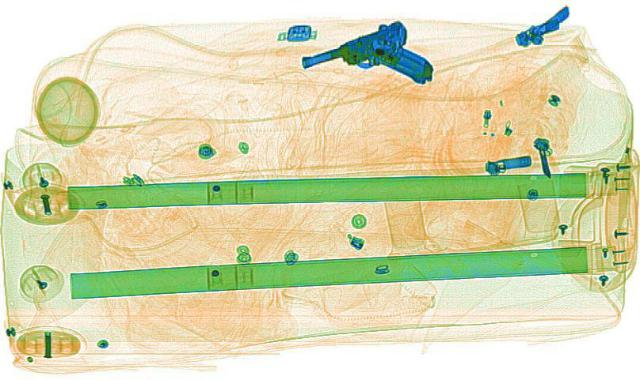Gun: (283, 19, 452, 106)
